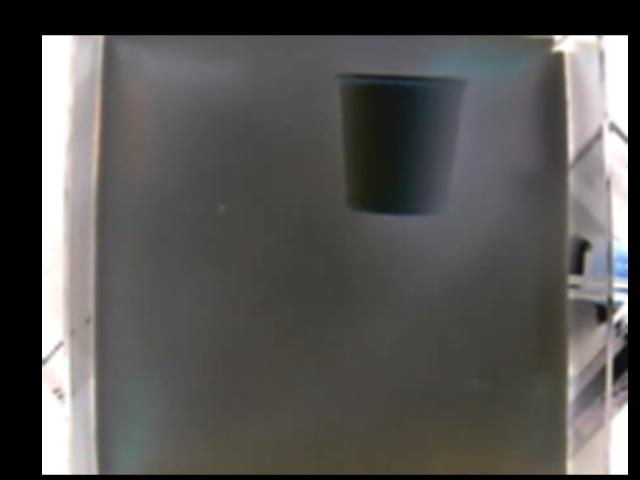Cup: (332, 71, 469, 218)
